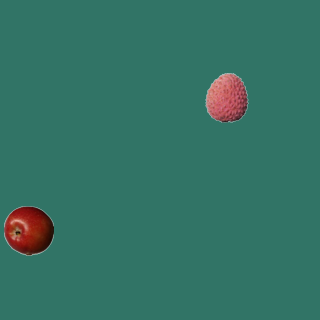Apple Braeburn: (3, 205, 53, 255)
Lychee: (201, 72, 251, 122)
